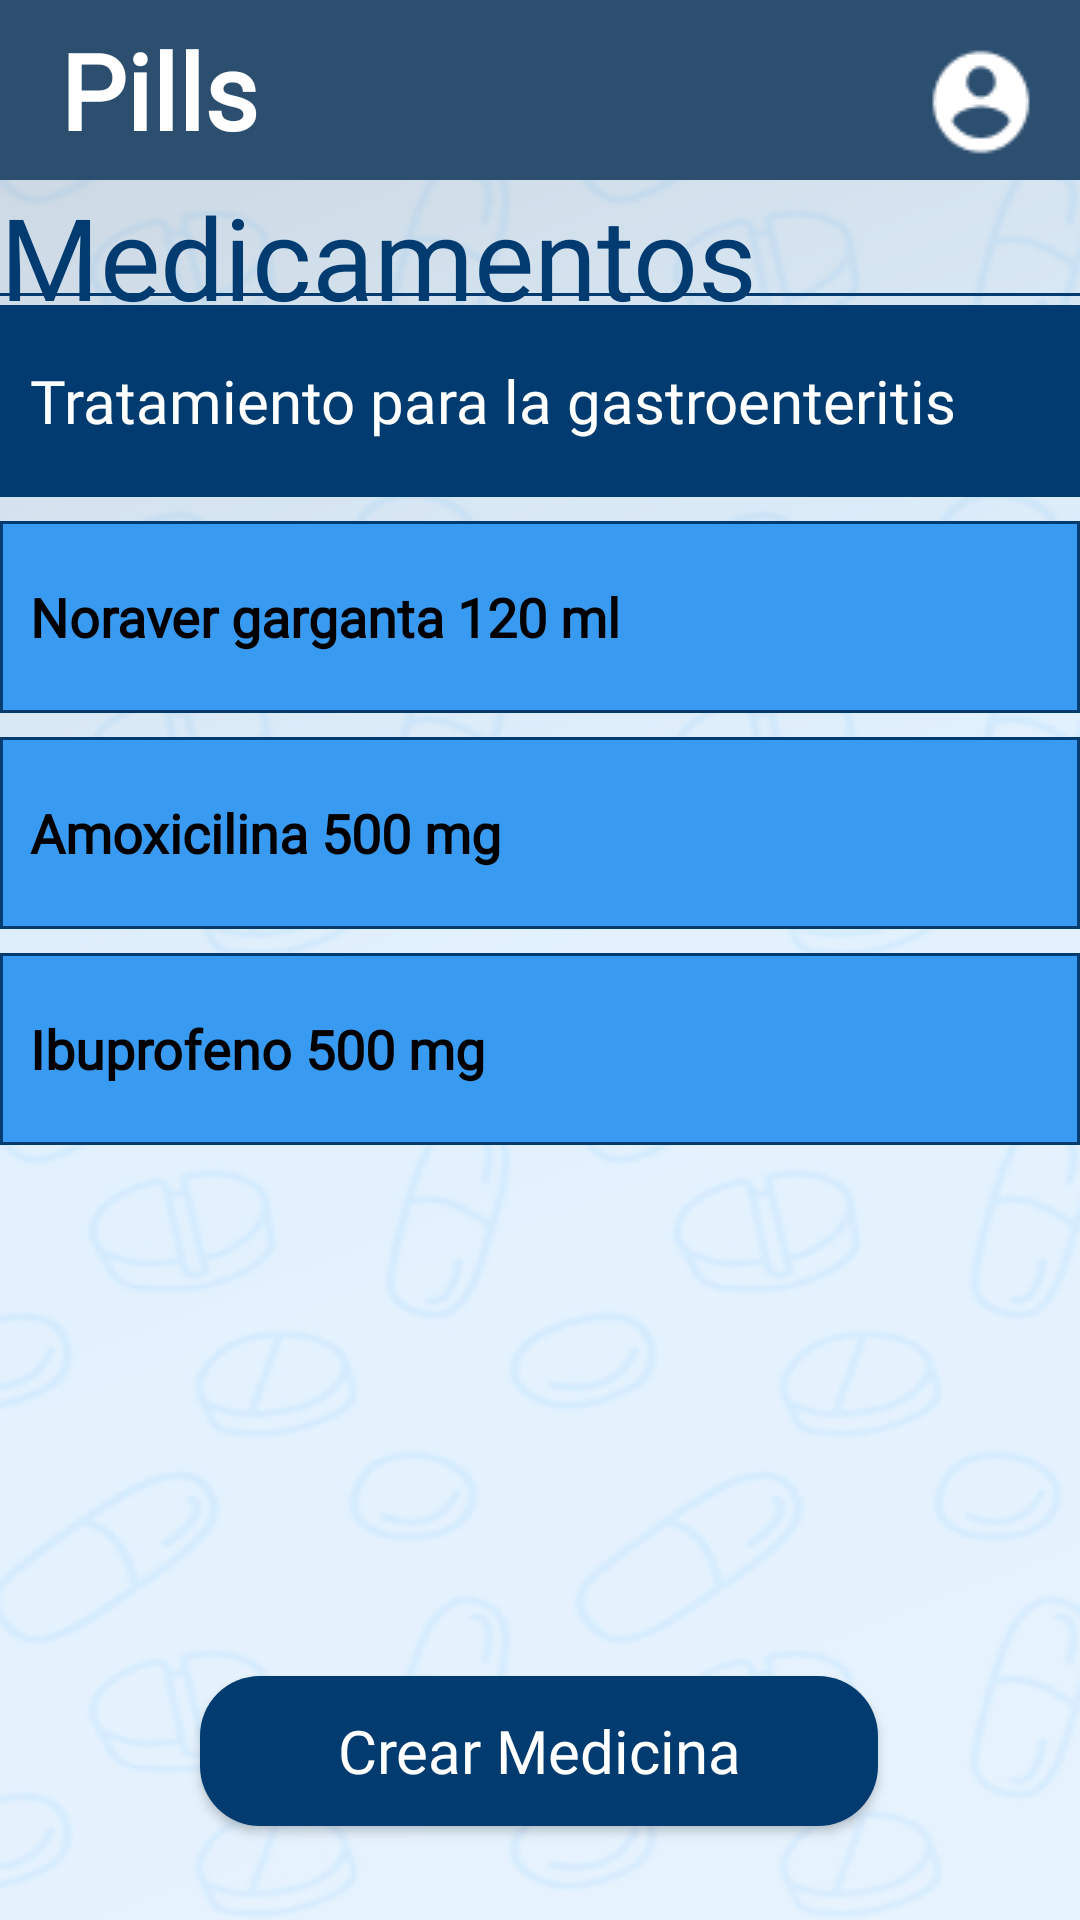

Named icons in this screenshot (1080×1920) and their bounding boxes, (x1, y1, x2, y2):
person: (932, 50, 1030, 154)
